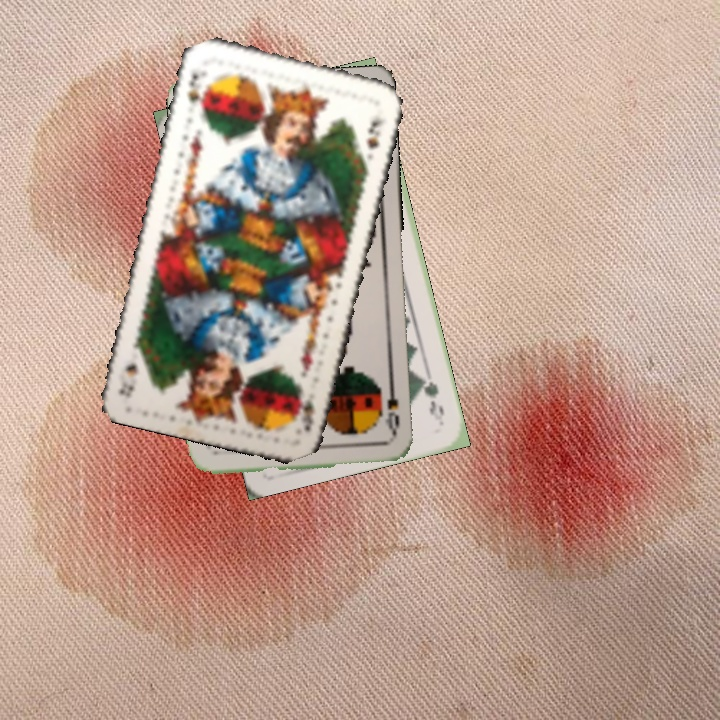G9: (417, 370, 447, 426)
SK: (182, 68, 210, 117), (293, 388, 318, 435)
SO: (381, 380, 402, 439)
